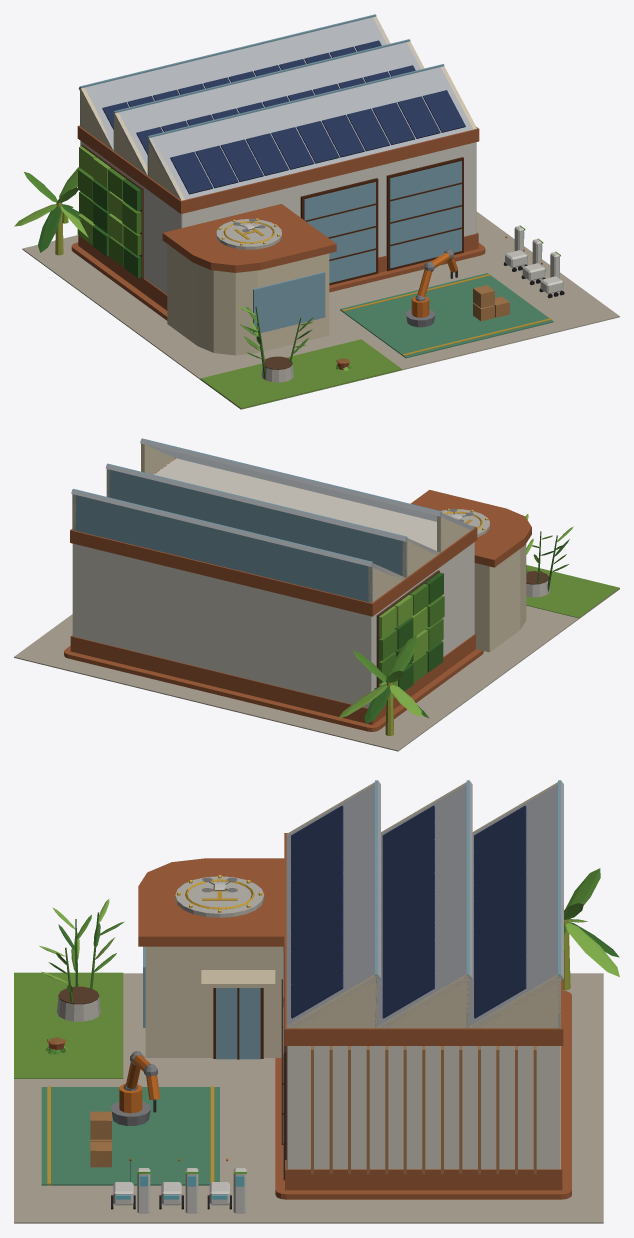
The model's file is factory_1.glb.
The picture shows the model from 3 angles, top to bottom: view 1: azimuth 30°, elevation 25°; view 2: azimuth 150°, elevation 25°; view 3: azimuth 270°, elevation 25°; orthographic projection. The views are drawn at different scales.
Parts seen in each view (by area): view 1: body; view 2: body; view 3: body, windows.
Part boxes in pixels (left/top/right/bottom): body: left=14, top=14, right=619, bottom=409; body: left=14, top=438, right=619, bottom=751; body: left=14, top=780, right=619, bottom=1223; windows: left=116, top=875, right=262, bottom=1199.
Bounding box in the file's own units: 16.56 × 6.92 × 16.34.
